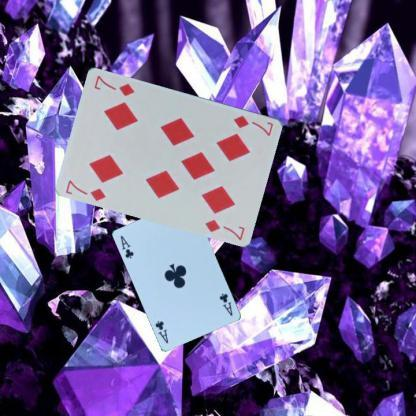7d: (62, 176, 108, 202), (231, 112, 275, 138)
Ac: (216, 290, 235, 318), (118, 233, 135, 260)
